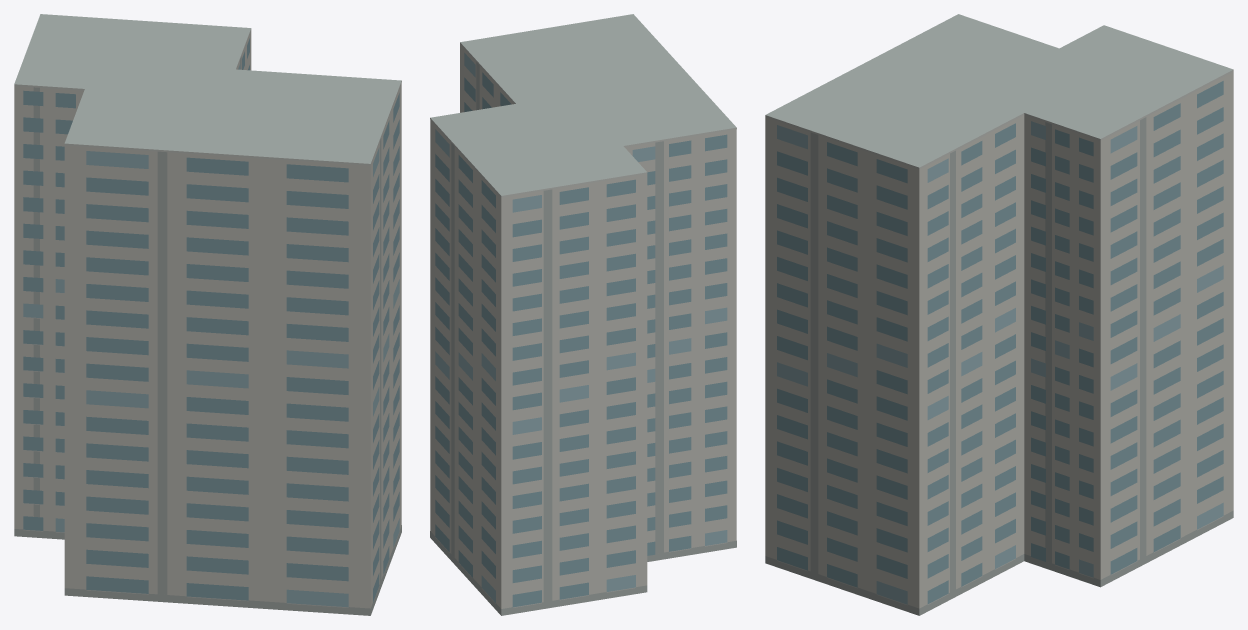
The model's file is residential-018f82a1-abbf-4be9-a261-94f5e3ac28f5.glb.
3 views of the same model, side by side, from view 1: azimuth 30°, elevation 25°; view 2: azimuth 150°, elevation 25°; view 3: azimuth 270°, elevation 25° (orthographic). The views are drawn at different scales.
Parts seen in each view (by area): view 1: residential-018f82a1-abbf-4be9-a261-94f5e3ac28f5.tmp; view 2: residential-018f82a1-abbf-4be9-a261-94f5e3ac28f5.tmp; view 3: residential-018f82a1-abbf-4be9-a261-94f5e3ac28f5.tmp.
Part boxes in pixels (bbox=[...]): residential-018f82a1-abbf-4be9-a261-94f5e3ac28f5.tmp: bbox=[14, 14, 401, 615]; residential-018f82a1-abbf-4be9-a261-94f5e3ac28f5.tmp: bbox=[430, 14, 736, 615]; residential-018f82a1-abbf-4be9-a261-94f5e3ac28f5.tmp: bbox=[765, 14, 1233, 615].
Size of the model in its own units: 44.12 by 60 by 56.84.
